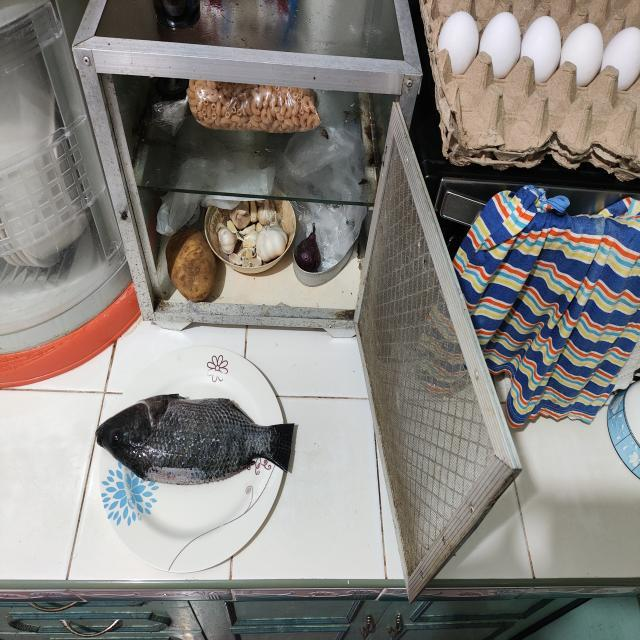egg: (440, 11, 640, 98)
fish: (94, 393, 296, 483)
garlic: (213, 205, 287, 267)
onion: (296, 229, 328, 277)
potato: (166, 227, 215, 304)
